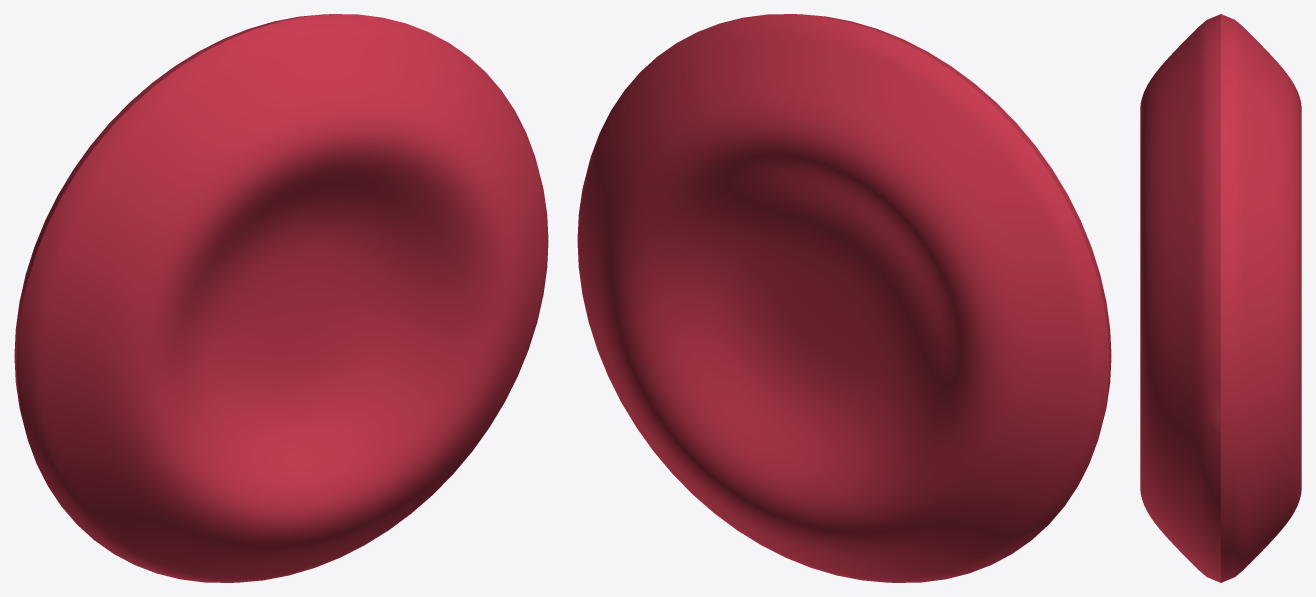
The model's file is red_blood_cell.glb.
The picture shows the model from 3 angles, left to right: view 1: azimuth 30°, elevation 25°; view 2: azimuth 150°, elevation 25°; view 3: azimuth 270°, elevation 25°; orthographic projection. The views are drawn at different scales.
Parts seen in each view (by area): view 1: Erythrocyte; view 2: Erythrocyte; view 3: Erythrocyte.
Part boxes in pixels (left/top/right/bottom): Erythrocyte: left=14, top=14, right=548, bottom=582; Erythrocyte: left=577, top=14, right=1111, bottom=582; Erythrocyte: left=1140, top=14, right=1301, bottom=582.
Size of the model in its own units: 2 by 2 by 0.5674.
